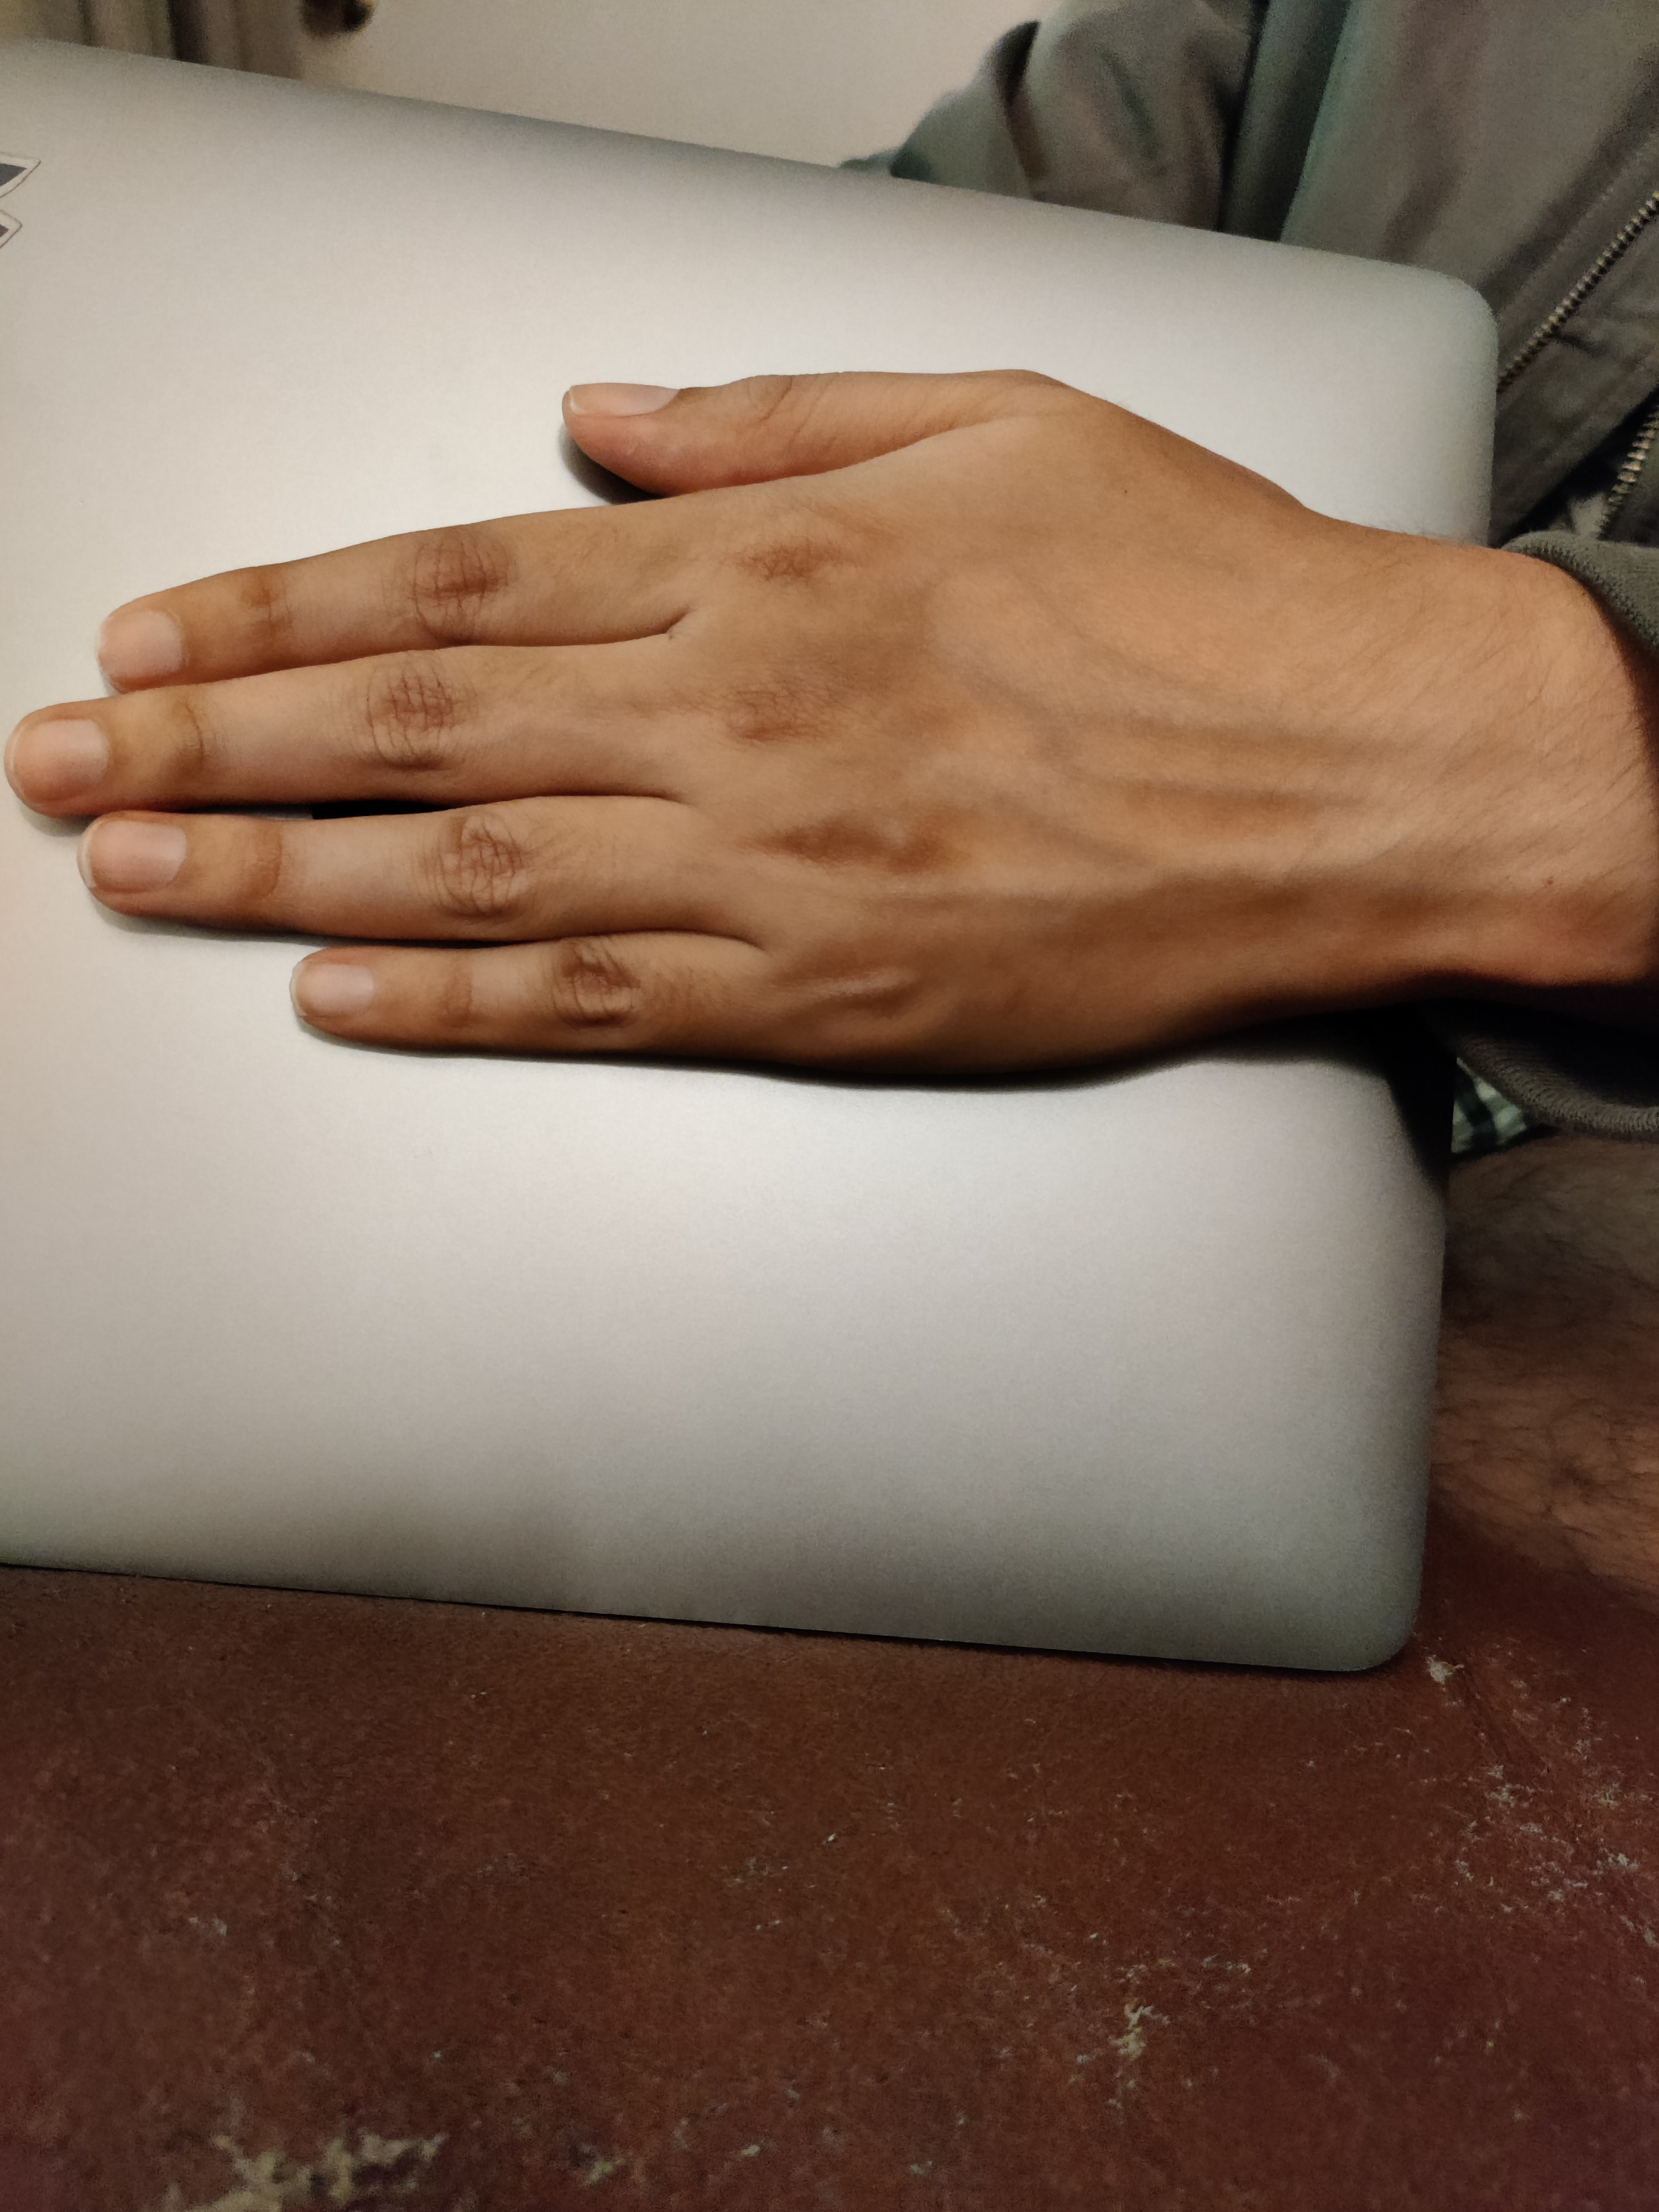right: (16, 291, 1607, 1287)
